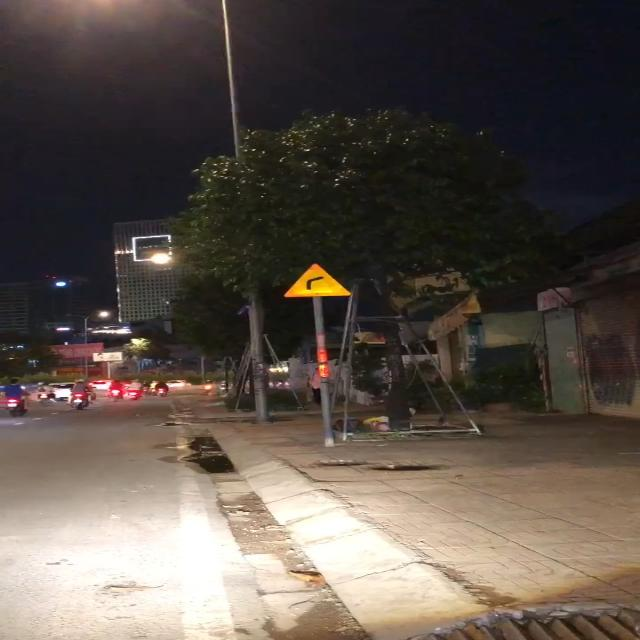Bien bao cho ngoat nguy hiem: (275, 258, 361, 301)
